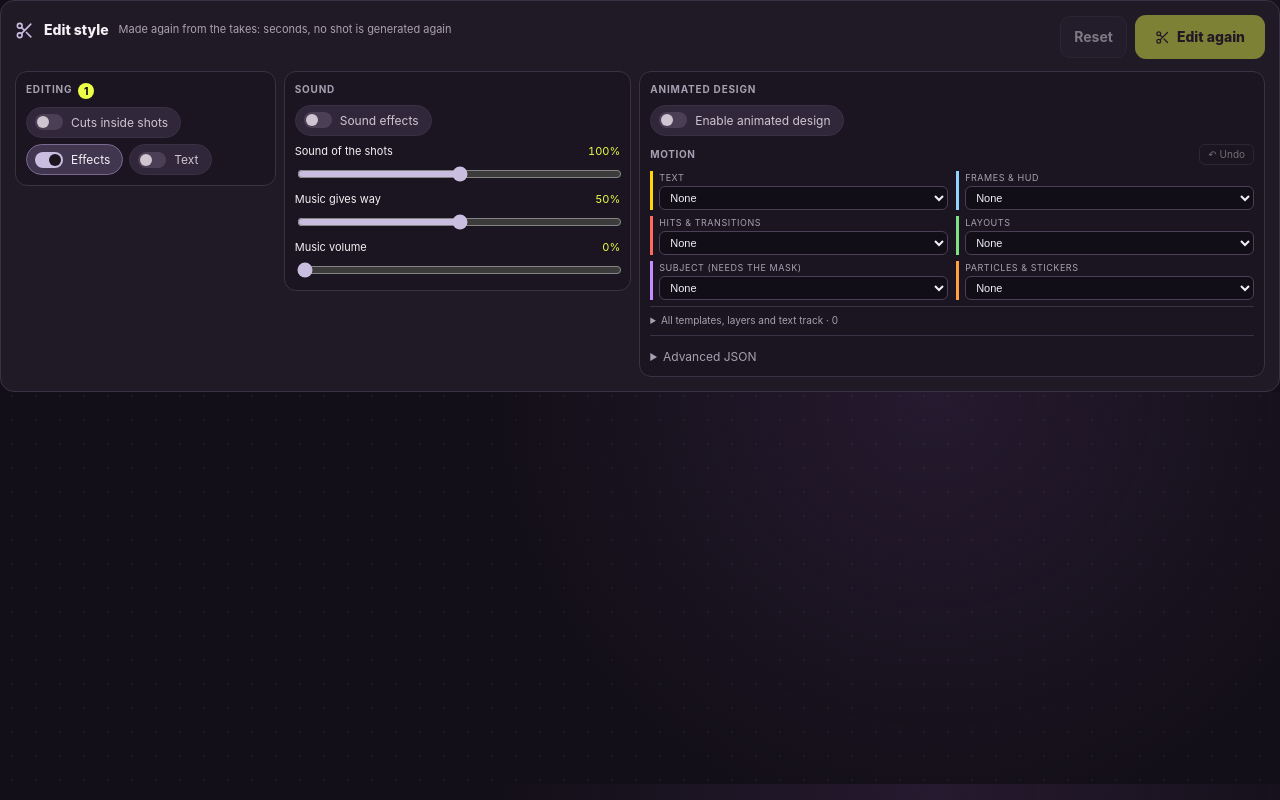
it: the panel counts a change before it is applied
Check: the picture named "1 active" is shown, box x1=78 y1=83 x2=94 y2=99
Click the checkbox labelled "Text" at (170, 160), box x1=129 y1=144 x2=212 y2=175
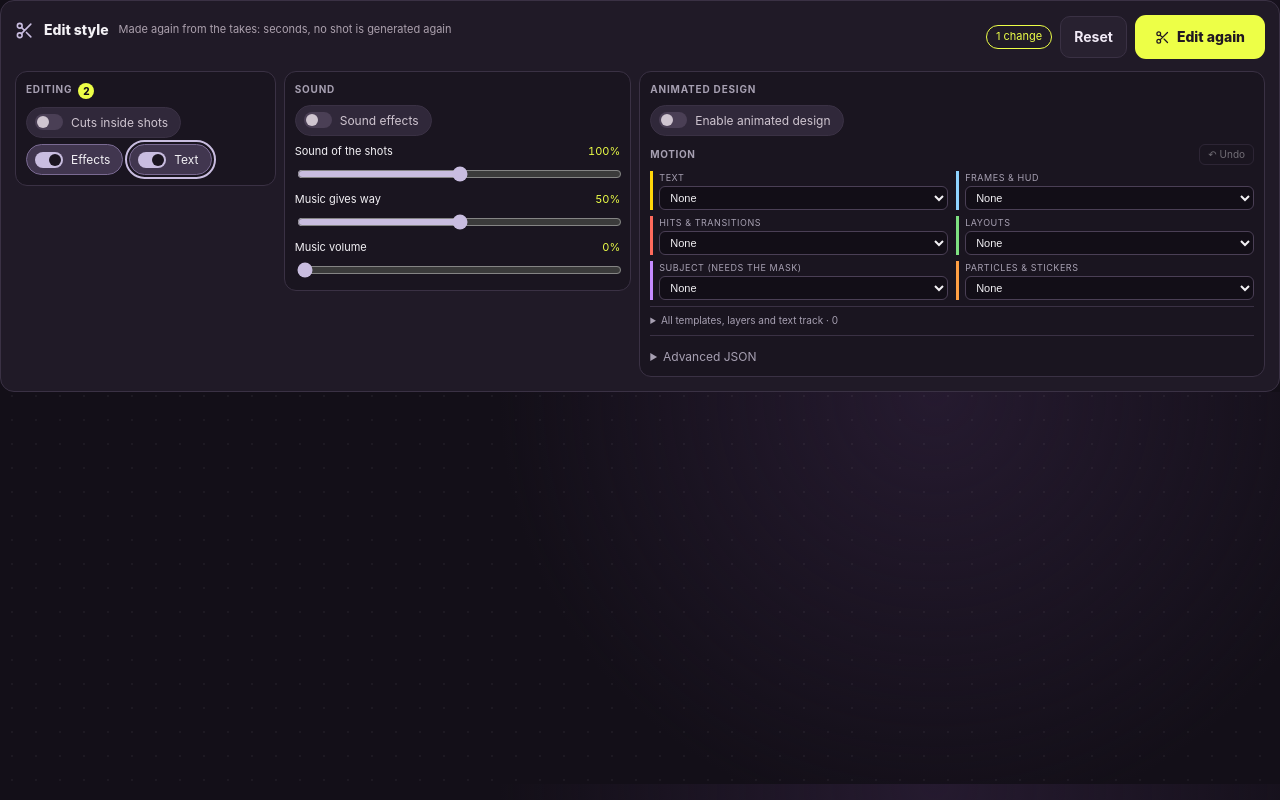
Check: the picture named "2 active" is shown, box x1=78 y1=83 x2=94 y2=99
